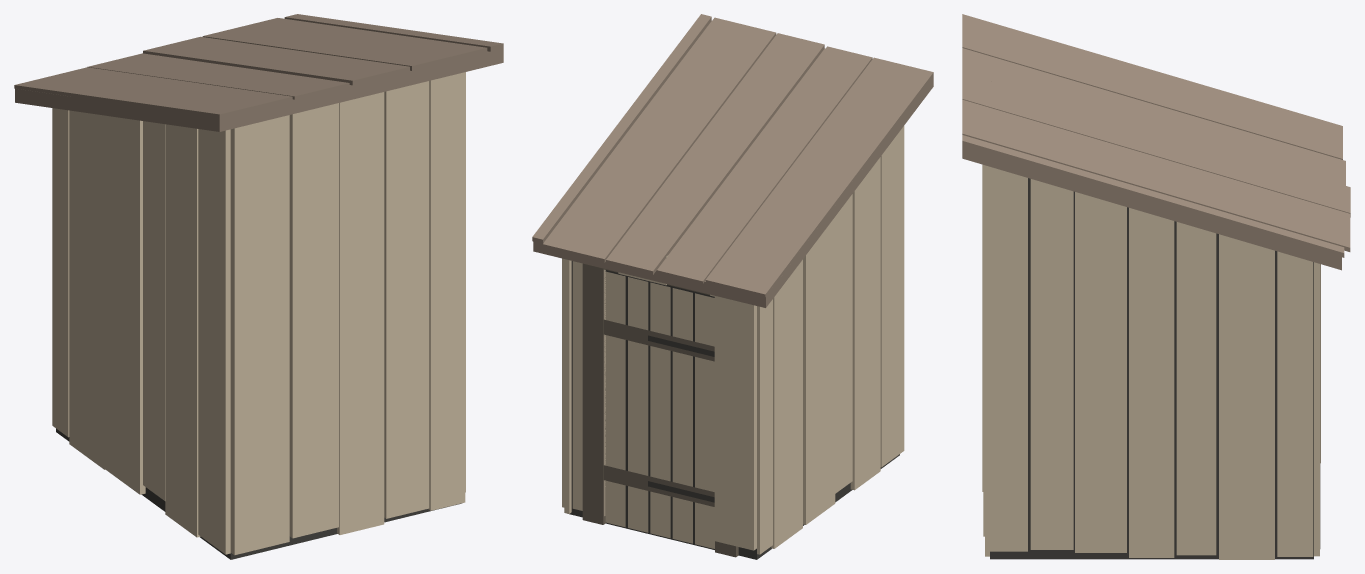
File: recon_1835_blk_washington_market_a3_06__inferred_1835.glb
The picture shows the model from 3 angles, left to right: view 1: azimuth 30°, elevation 25°; view 2: azimuth 150°, elevation 25°; view 3: azimuth 270°, elevation 25°; orthographic projection. The views are drawn at different scales.
Visible parts, largest first — view 1: recon_1835_blk_washington_market_a3_06__inferred_1835; view 2: recon_1835_blk_washington_market_a3_06__inferred_1835; view 3: recon_1835_blk_washington_market_a3_06__inferred_1835.
Part boxes in pixels (x1,y1,x2,y2): recon_1835_blk_washington_market_a3_06__inferred_1835: [14, 14, 503, 559]; recon_1835_blk_washington_market_a3_06__inferred_1835: [532, 14, 933, 559]; recon_1835_blk_washington_market_a3_06__inferred_1835: [962, 14, 1350, 559].
Size of the model in its own units: 1.79 by 2.8 by 2.29.
